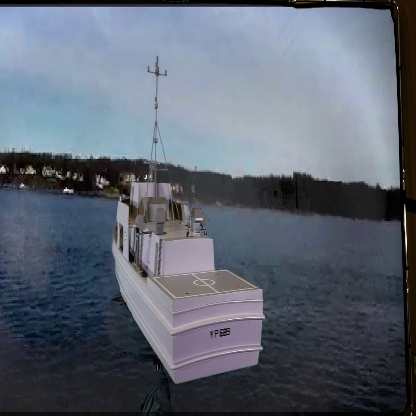YP689: (111, 57, 265, 383)
